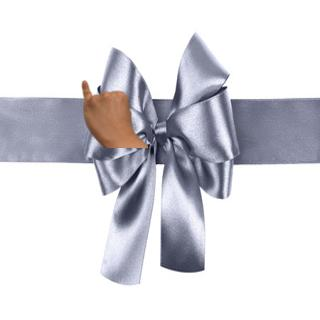FINE: (78, 78, 136, 139)
